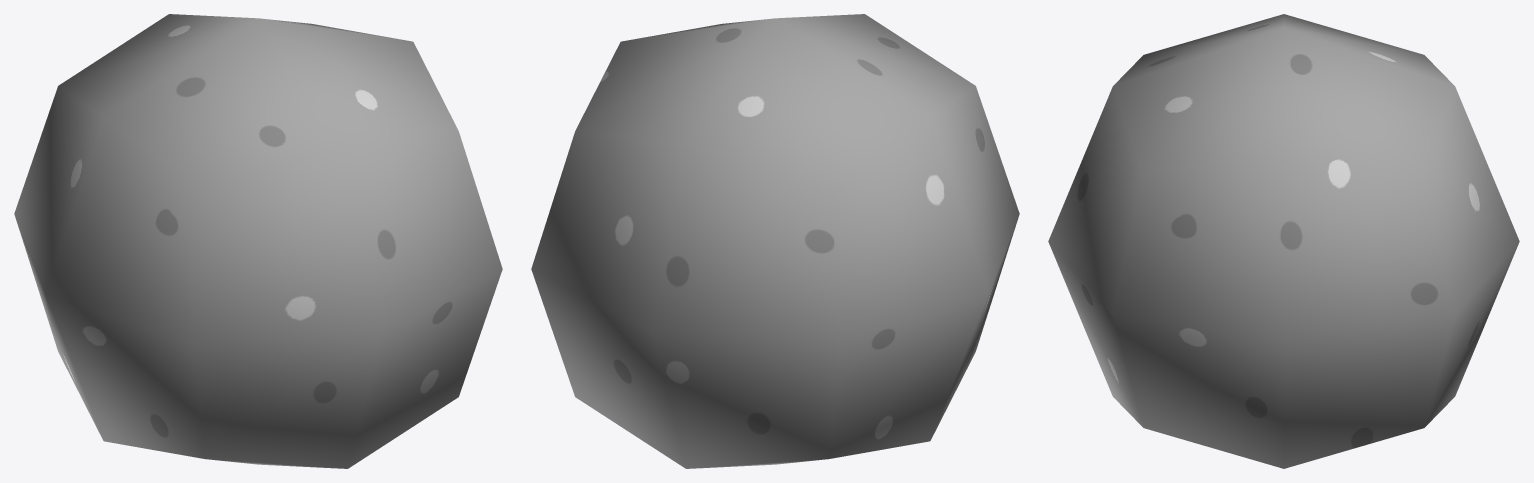
The model's file is FireBall.obj.
3 renders of one model, left to right at view 1: azimuth 30°, elevation 25°; view 2: azimuth 150°, elevation 25°; view 3: azimuth 270°, elevation 25°, orthographic. The views are drawn at different scales.
Visible parts, largest first — view 1: Cube; view 2: Cube; view 3: Cube.
Part boxes in pixels (x1,y1,x2,y2): Cube: [14, 14, 502, 468]; Cube: [531, 14, 1019, 468]; Cube: [1048, 14, 1519, 468].
Bounding box in the file's own units: 1.68 × 1.68 × 1.68.
1 material, 1 textured.
